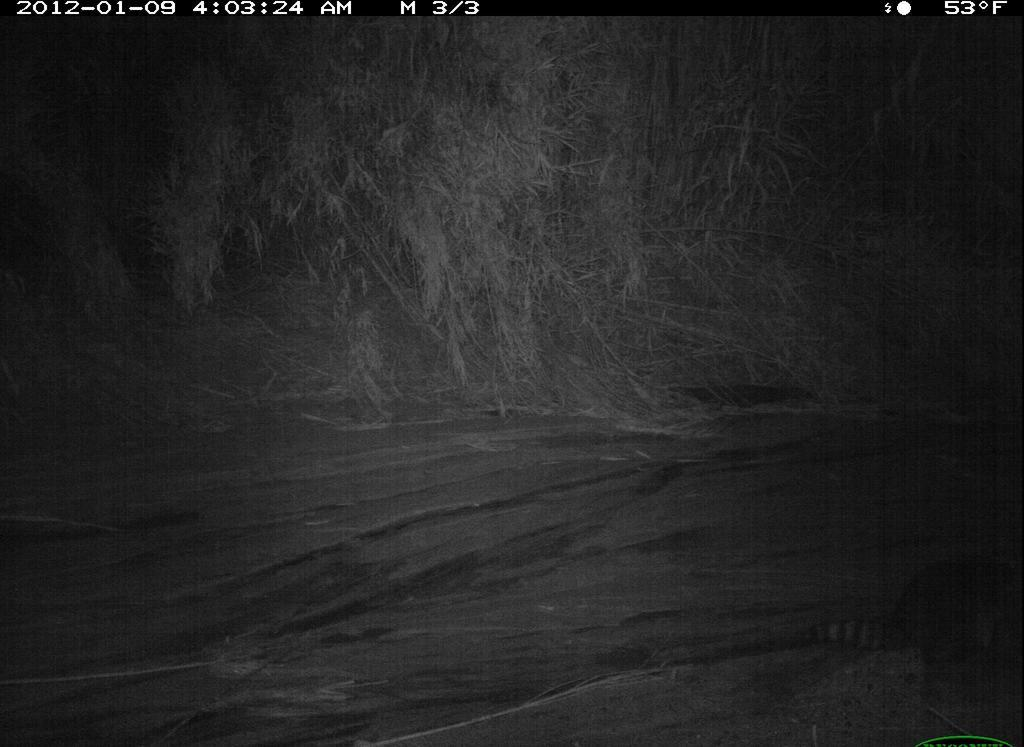raccoon: (790, 510, 1023, 708)
